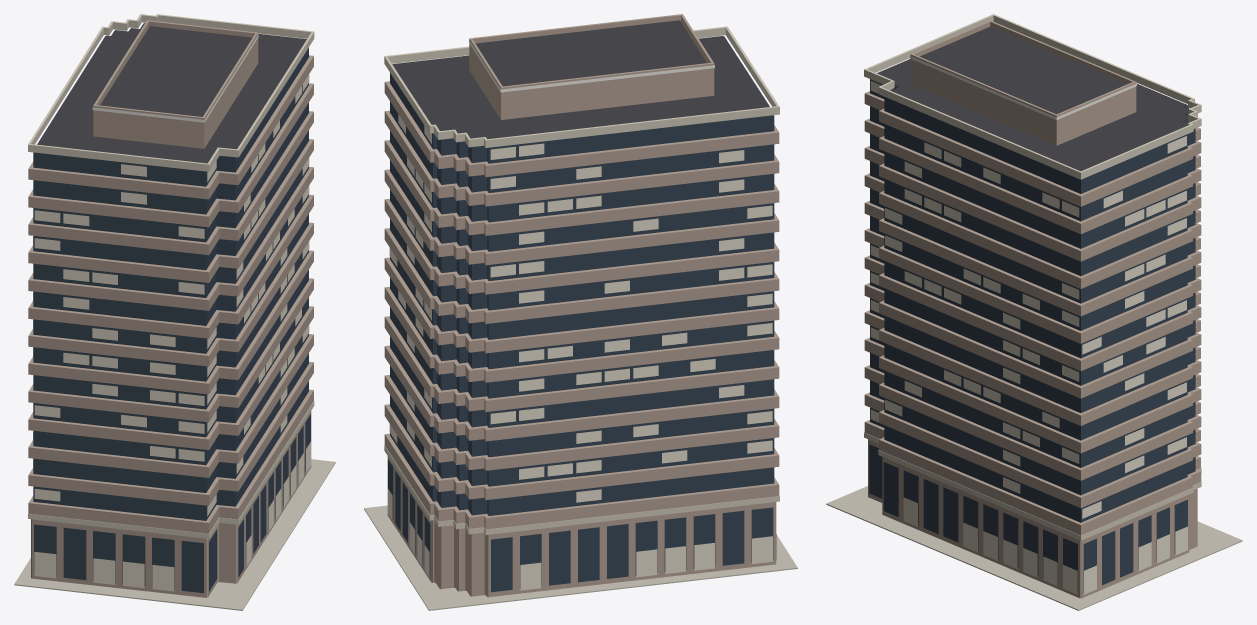
Rendered from 49-stevenson-street.glb.
3 views of the same model, side by side, from view 1: azimuth 30°, elevation 25°; view 2: azimuth 150°, elevation 25°; view 3: azimuth 270°, elevation 25° (orthographic). The views are drawn at different scales.
Parts seen in each view (by area): view 1: 49-stevenson-street_body, 49-stevenson-street_night_glow; view 2: 49-stevenson-street_body, 49-stevenson-street_night_glow; view 3: 49-stevenson-street_body, 49-stevenson-street_night_glow.
Part boxes in pixels (x1=…): 49-stevenson-street_body: x1=14, y1=14, x2=335, y2=610; 49-stevenson-street_night_glow: x1=33, y1=34, x2=311, y2=591; 49-stevenson-street_body: x1=364, y1=14, x2=797, y2=610; 49-stevenson-street_night_glow: x1=387, y1=40, x2=776, y2=590; 49-stevenson-street_body: x1=826, y1=14, x2=1242, y2=610; 49-stevenson-street_night_glow: x1=870, y1=55, x2=1187, y2=594.
Size of the model in its own units: 53.72 by 64.44 by 53.76.
